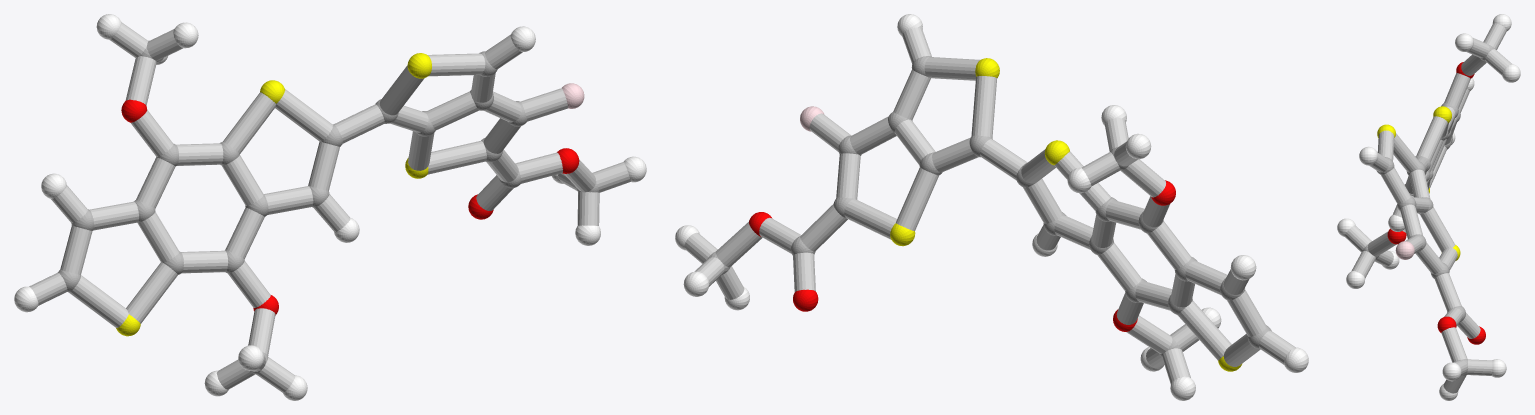
File: Dimethoxy_Benzodithiophene_Phi_10_Theta_230_Methylcarbonyl_3_Fluoro_Thienothiophene.glb
3 views of the same model, side by side, from view 1: azimuth 30°, elevation 25°; view 2: azimuth 150°, elevation 25°; view 3: azimuth 270°, elevation 25° (orthographic). The views are drawn at different scales.
Parts seen in each view (by area): view 1: grp15205, grp8689, grp1, grp7241, grp13395; view 2: grp15205, grp8689, grp1, grp7241, grp13395; view 3: grp15205, grp8689, grp1, grp13395, grp7241, grp14843.
Part boxes in pixels (x1,y1,x2,y2): grp15205: [29, 22, 630, 392]; grp8689: [14, 14, 646, 400]; grp1: [58, 40, 599, 374]; grp7241: [116, 53, 431, 336]; grp13395: [121, 99, 579, 315]; grp15205: [684, 27, 1295, 384]; grp8689: [675, 14, 1308, 400]; grp1: [707, 56, 1271, 356]; grp7241: [890, 58, 1242, 371]; grp13395: [749, 180, 1175, 331]; grp15205: [1344, 23, 1511, 393]; grp8689: [1337, 14, 1520, 400]; grp1: [1362, 44, 1494, 376]; grp13395: [1387, 62, 1485, 344]; grp7241: [1377, 106, 1460, 260]; grp14843: [1395, 241, 1414, 259].
Size of the model in its own units: 16.95 by 8.49 by 5.81.
